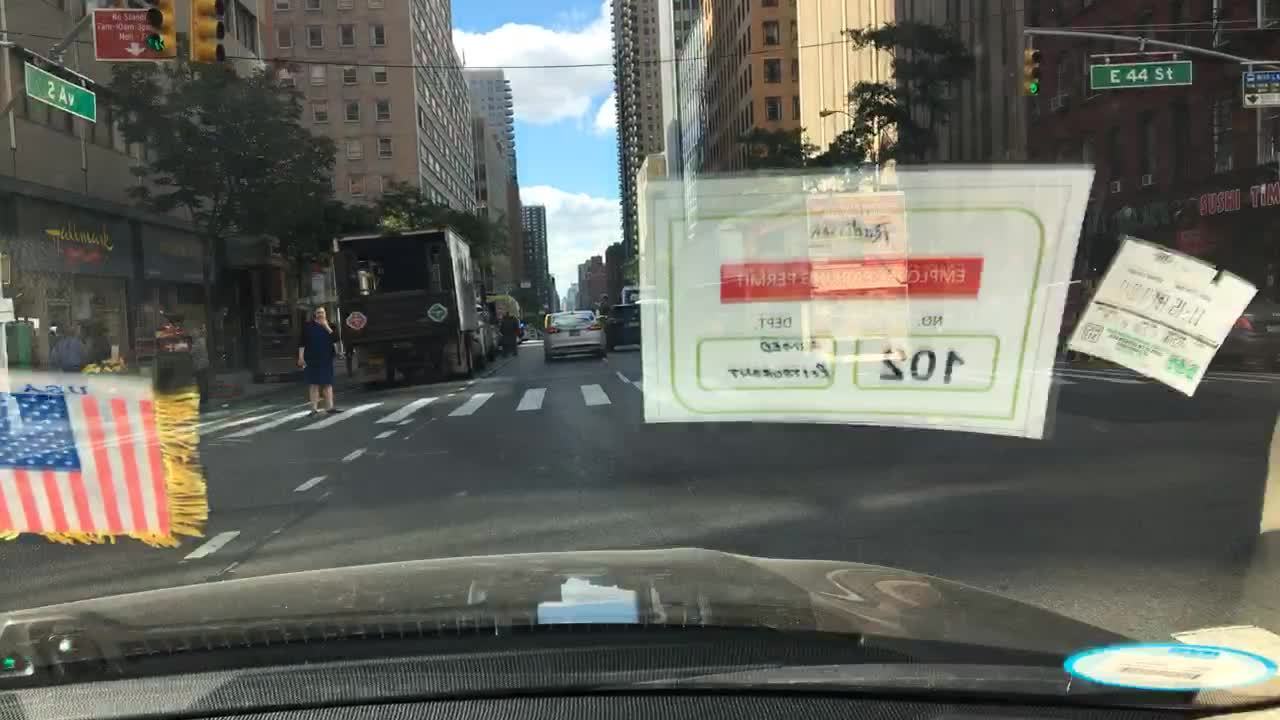car: (1199, 278, 1278, 369), (543, 309, 609, 362), (608, 303, 644, 349)
person: (294, 301, 348, 417), (187, 324, 217, 403), (48, 316, 86, 375), (495, 306, 525, 359), (72, 319, 102, 371), (596, 288, 608, 306)
traffic light: (192, 0, 224, 63), (143, 0, 175, 52), (1024, 47, 1041, 98)
traffic sign: (27, 62, 96, 122), (1087, 61, 1191, 88), (92, 6, 147, 57), (1242, 72, 1278, 102)
truck: (333, 224, 497, 381), (620, 284, 645, 308)
